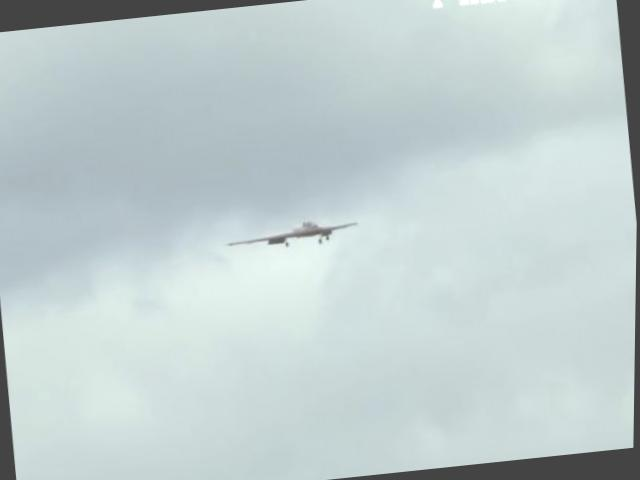flying wing: (223, 212, 359, 262)
